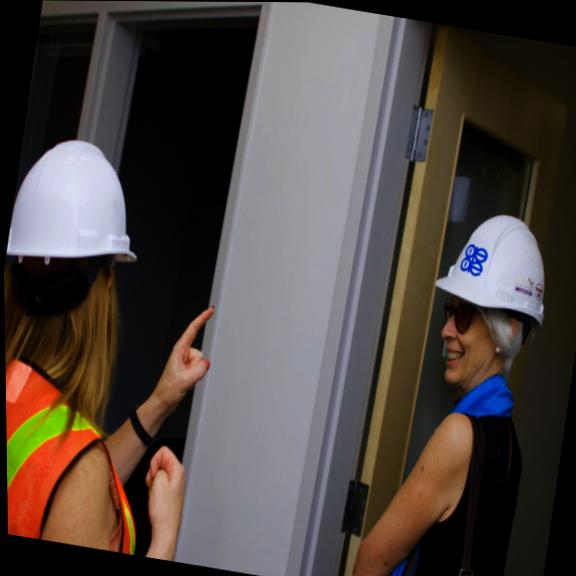no_safety_vest: (368, 381, 540, 576)
safety_vest: (5, 350, 169, 556)
